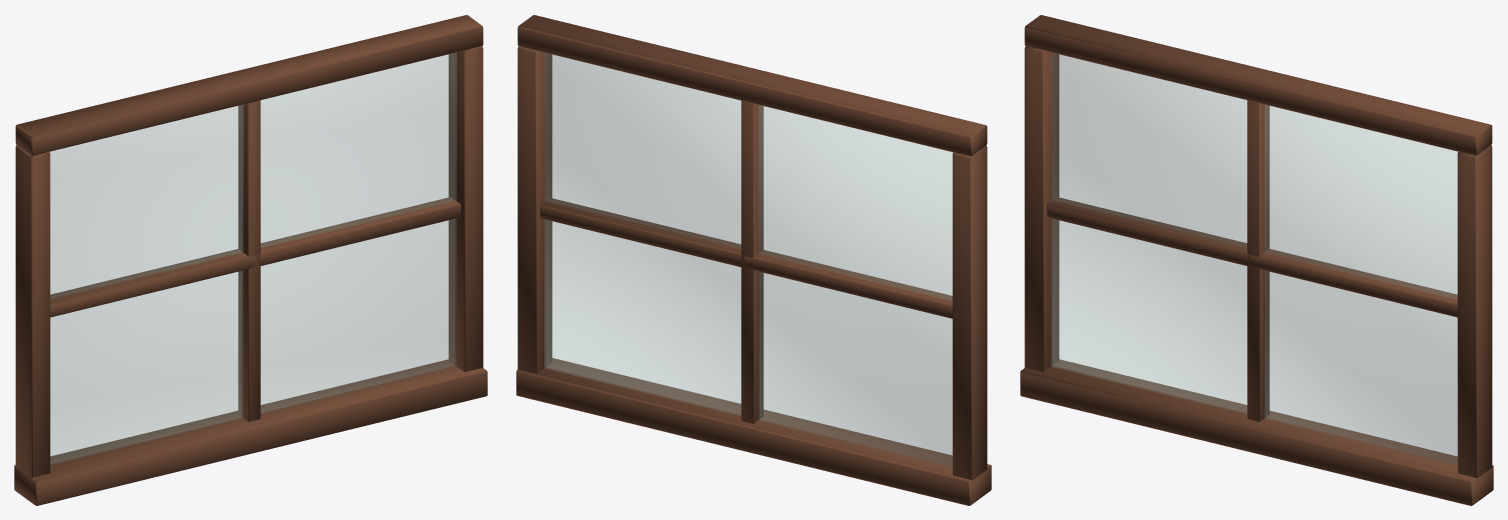
File: shed_window.glb
3 renders of one model, left to right at view 1: azimuth 30°, elevation 25°; view 2: azimuth 150°, elevation 25°; view 3: azimuth 330°, elevation 25°, orthographic.
Parts seen in each view (by area): view 1: MESH_WindowGlass, MESH_WindowCasing; view 2: MESH_WindowGlass, MESH_WindowCasing; view 3: MESH_WindowGlass, MESH_WindowCasing.
Part boxes in pixels (x1,y1,x2,y2): MESH_WindowGlass: [50, 53, 456, 464]; MESH_WindowCasing: [14, 15, 487, 505]; MESH_WindowGlass: [544, 53, 952, 467]; MESH_WindowCasing: [516, 15, 991, 505]; MESH_WindowGlass: [1051, 53, 1457, 464]; MESH_WindowCasing: [1020, 15, 1493, 505].
Size of the model in its own units: 1.74 by 1.35 by 0.15.
